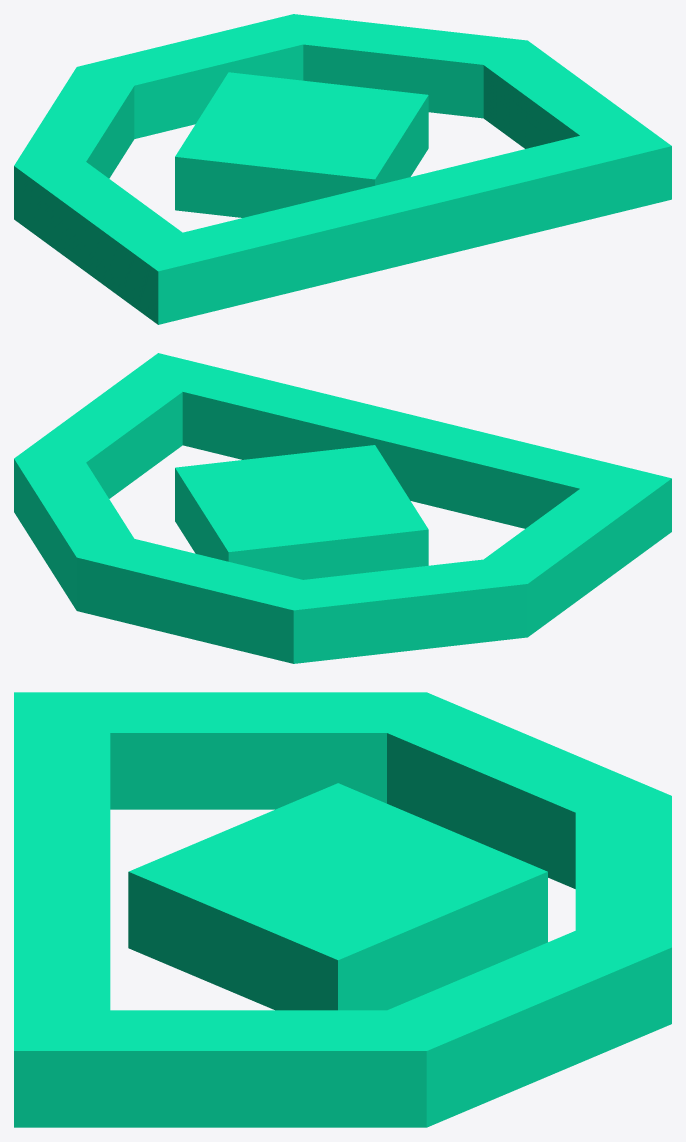
Rendered from amphibious_path_node.fbx.
The picture shows the model from 3 angles, top to bottom: view 1: azimuth 30°, elevation 25°; view 2: azimuth 150°, elevation 25°; view 3: azimuth 270°, elevation 25°; orthographic projection. The views are drawn at different scales.
Visible parts, largest first — view 1: Тор.001; view 2: Тор.001; view 3: Тор.001.
Part boxes in pixels (x1,y1,x2,y2): Тор.001: [14, 14, 671, 324]; Тор.001: [14, 353, 671, 663]; Тор.001: [14, 692, 671, 1127].
Size of the model in its own units: 103 by 10.27 by 79.96.
